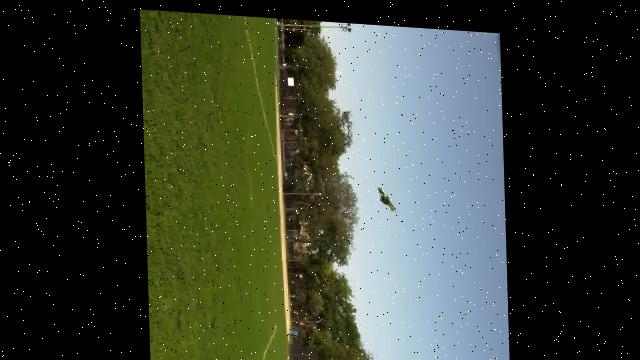drone: (372, 180, 404, 214)
